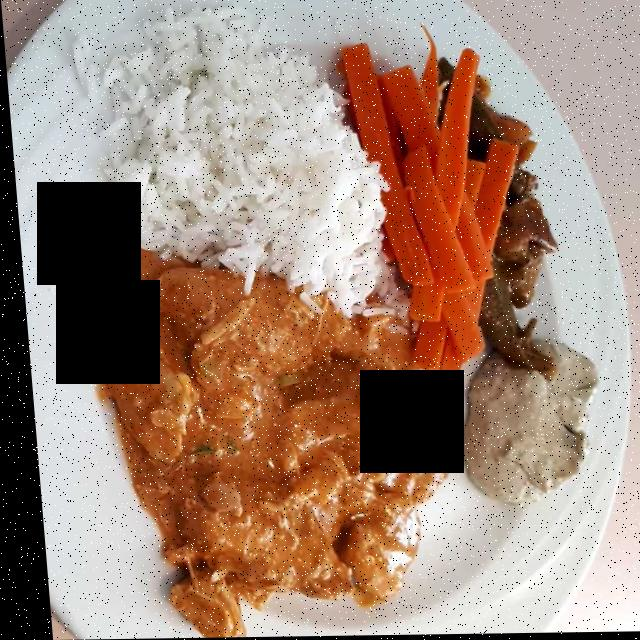carrot-raw: (327, 22, 520, 359)
chicken-curry-cream-coconut-milk-curry-spices-paste: (82, 249, 453, 622)
mousse: (461, 342, 602, 513)
rice: (88, 16, 383, 315)
